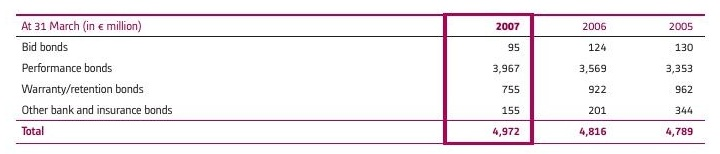table: (0, 0, 720, 154)
